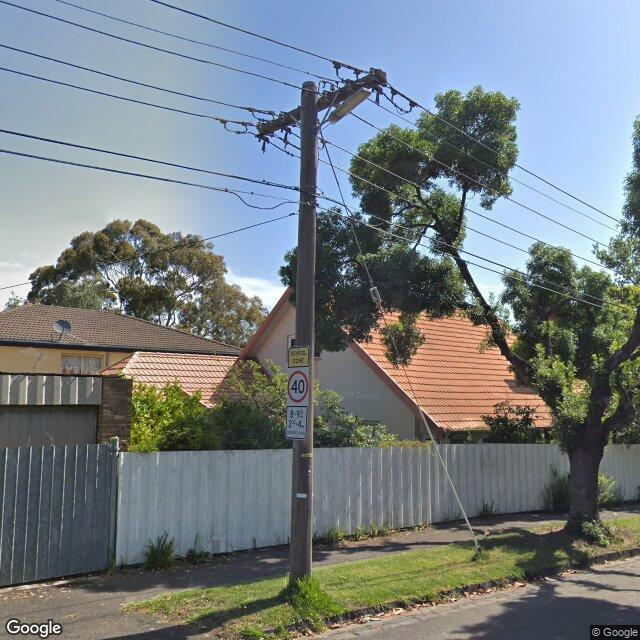crossarm: (220, 70, 386, 154)
streetlight: (316, 88, 372, 131)
timber-pole: (289, 81, 316, 598)
